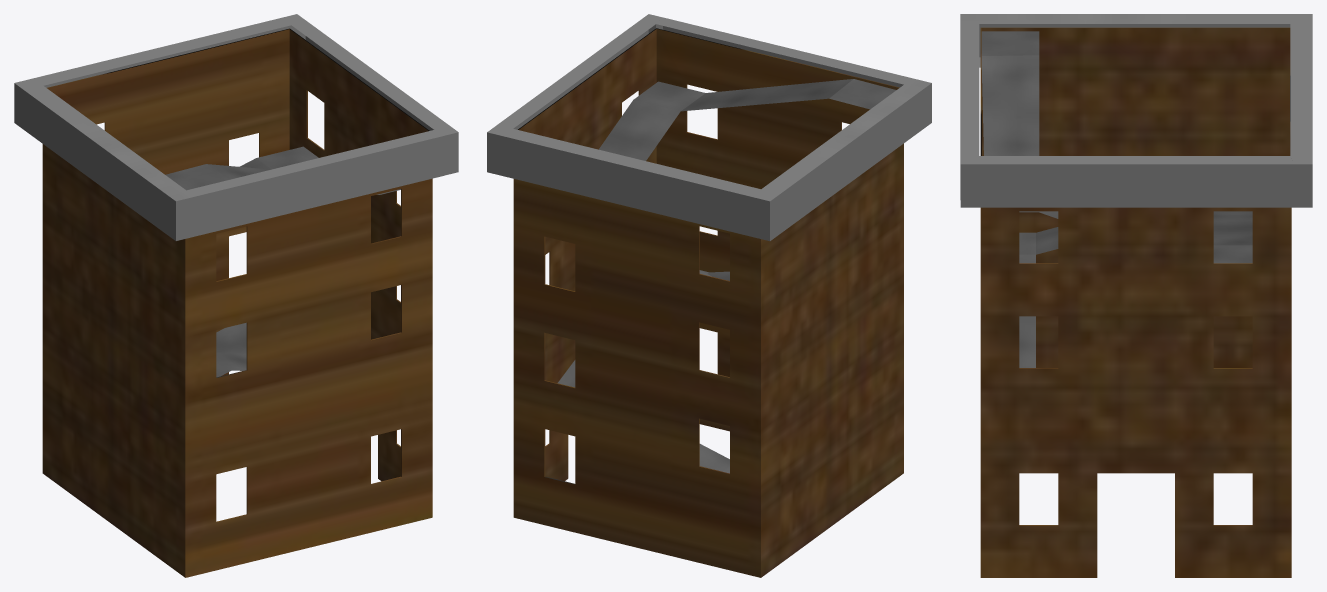
Rendered from building.dae.
3 renders of one model, left to right at view 1: azimuth 30°, elevation 25°; view 2: azimuth 150°, elevation 25°; view 3: azimuth 270°, elevation 25°, orthographic. The views are drawn at different scales.
Parts seen in each view (by area): view 1: Cube; view 2: Cube; view 3: Cube.
Boxes of the visible parts, x1,y1,x2,y2 form: Cube: (14,14,458,577); Cube: (487,14,931,577); Cube: (960,14,1312,577).
Size of the model in its own units: 2.57 by 2.54 by 3.37.
Materials: 1 (1 with a texture image).
